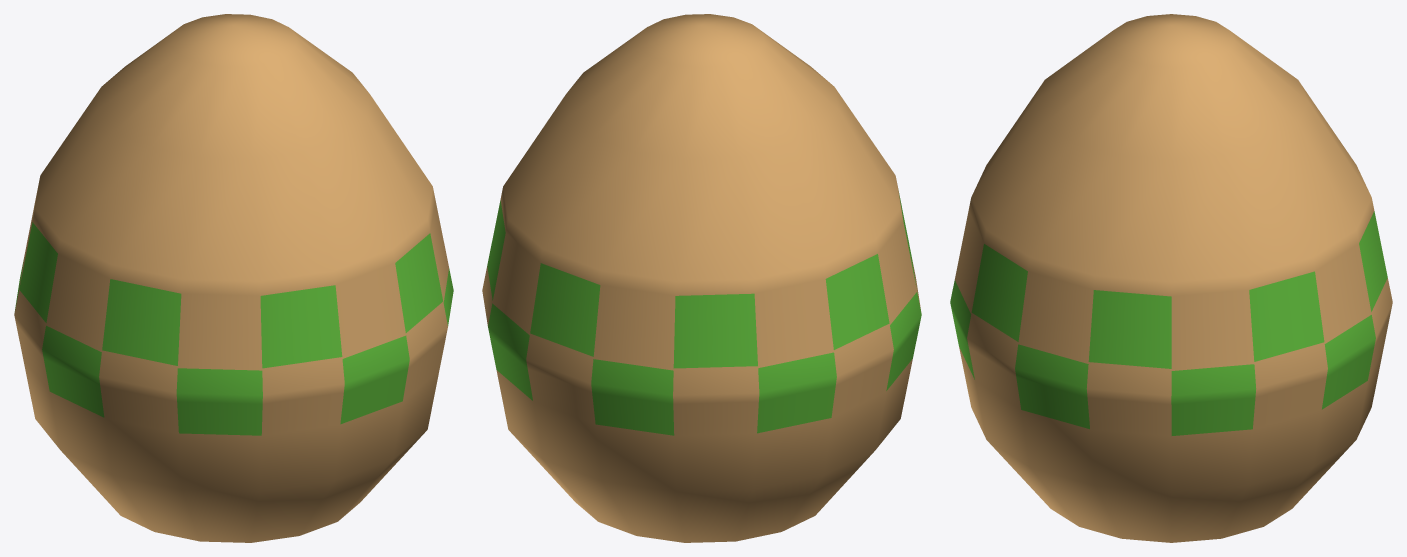
File: FarmEgg.fbx
3 views of the same model, side by side, from view 1: azimuth 30°, elevation 25°; view 2: azimuth 150°, elevation 25°; view 3: azimuth 270°, elevation 25° (orthographic).
Visible parts, largest first — view 1: FarmEgg; view 2: FarmEgg; view 3: FarmEgg.
Boxes of the visible parts, left/top/right/bottom form: FarmEgg: left=14, top=14, right=453, bottom=542; FarmEgg: left=482, top=14, right=921, bottom=542; FarmEgg: left=950, top=14, right=1392, bottom=542.
Bounding box in the file's own units: 2.1 × 2.5 × 2.1.
1 material, 1 textured.
